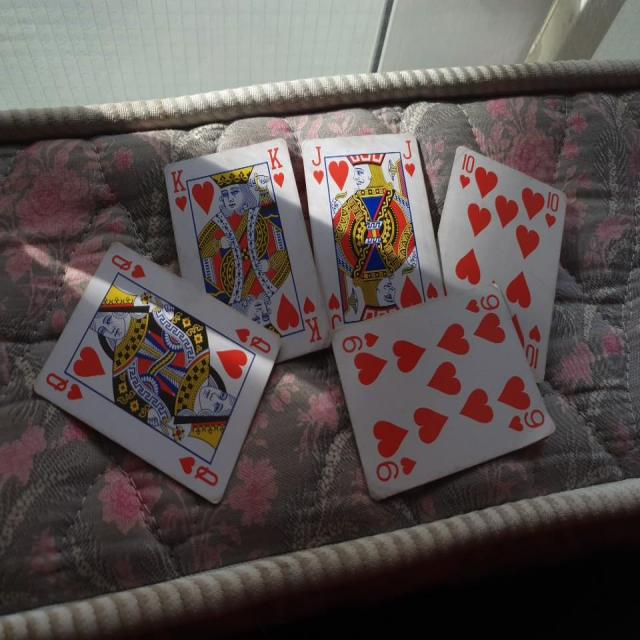10 Hearts: (436, 138, 569, 396)
9 Hearts: (331, 282, 558, 504)
J Hearts: (297, 129, 445, 348)
K Hearts: (166, 132, 330, 370)
Q Hearts: (33, 239, 282, 514)
